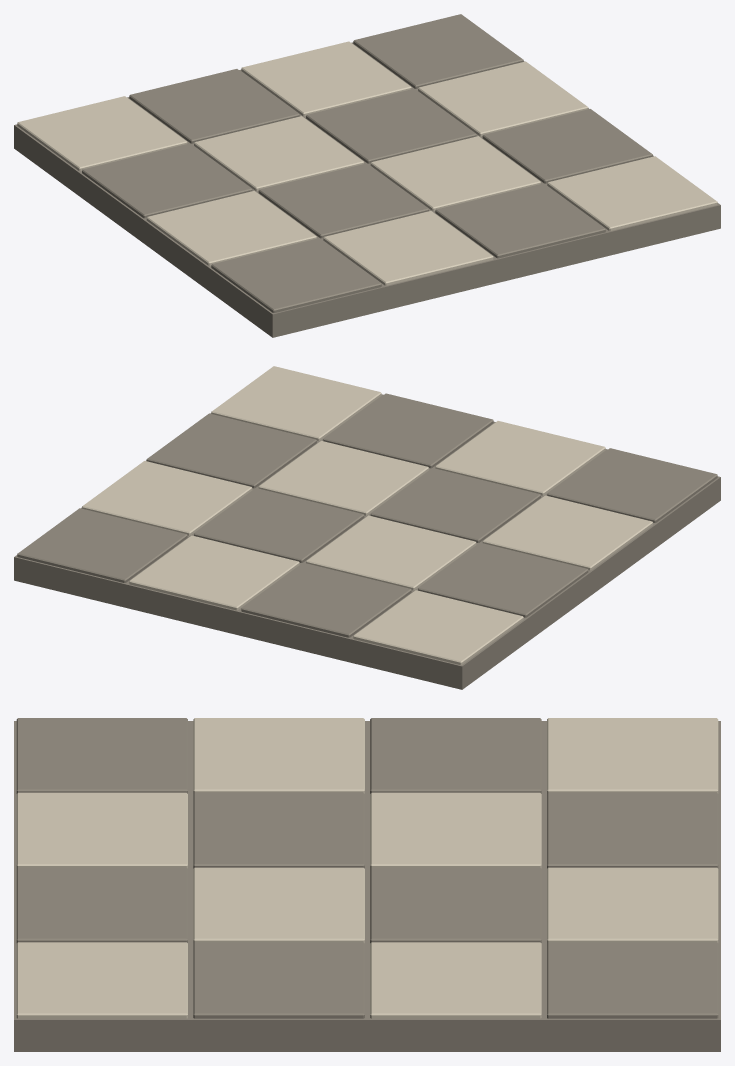
The model's file is floor_bb_flag.glb.
The picture shows the model from 3 angles, top to bottom: view 1: azimuth 30°, elevation 25°; view 2: azimuth 150°, elevation 25°; view 3: azimuth 270°, elevation 25°; orthographic projection. The views are drawn at different scales.
Visible parts, largest first — view 1: floor_bb_flag; view 2: floor_bb_flag; view 3: floor_bb_flag.
Boxes of the visible parts, x1=… form: floor_bb_flag: x1=14, y1=14, x2=720, y2=337; floor_bb_flag: x1=14, y1=366, x2=720, y2=689; floor_bb_flag: x1=14, y1=718, x2=720, y2=1051.
Bounding box in the file's own units: 4 × 0.229 × 4.
